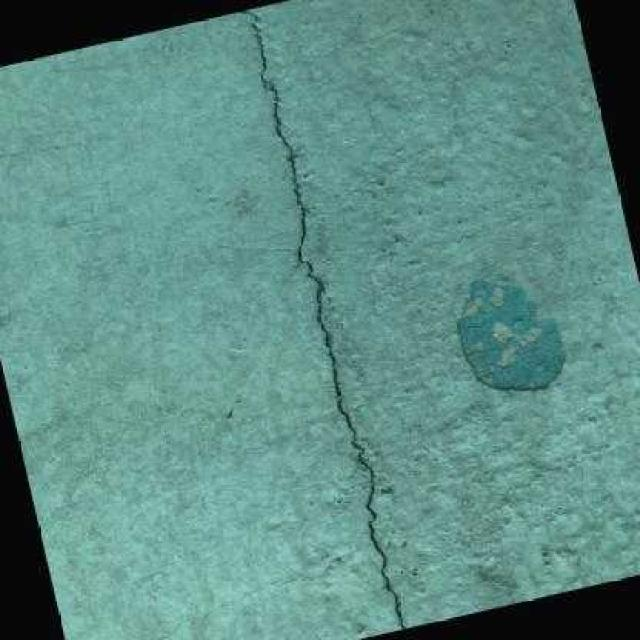D00: (239, 9, 408, 629)
